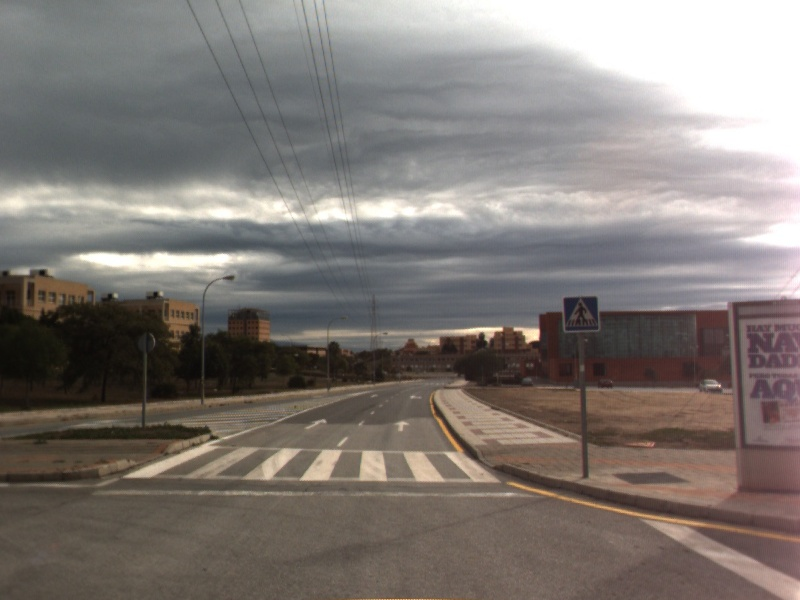STRAIGHT: (302, 417, 329, 431), (391, 418, 412, 433)
